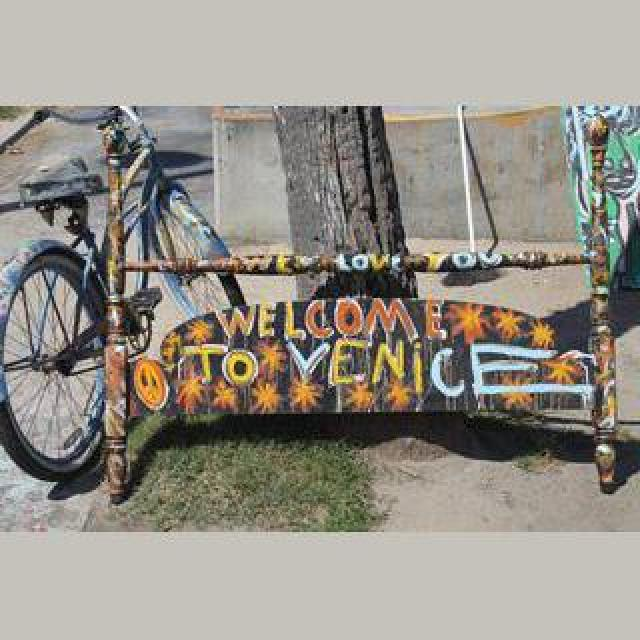Person: (0, 110, 238, 494)
